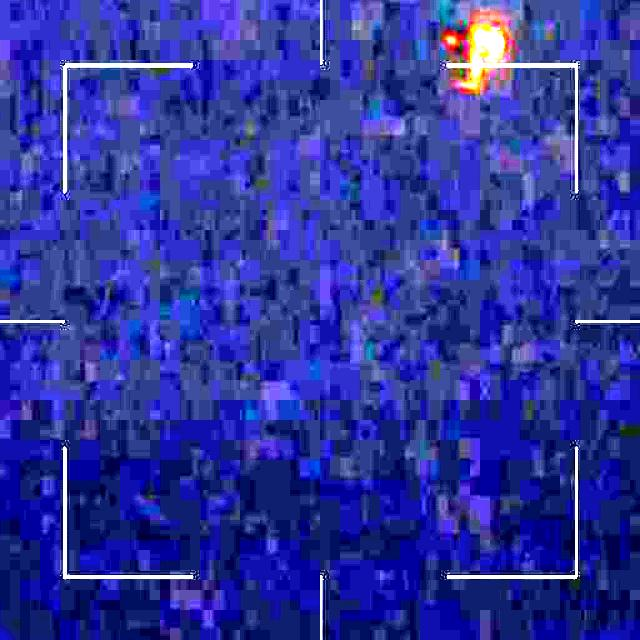bird: (431, 18, 505, 85)
